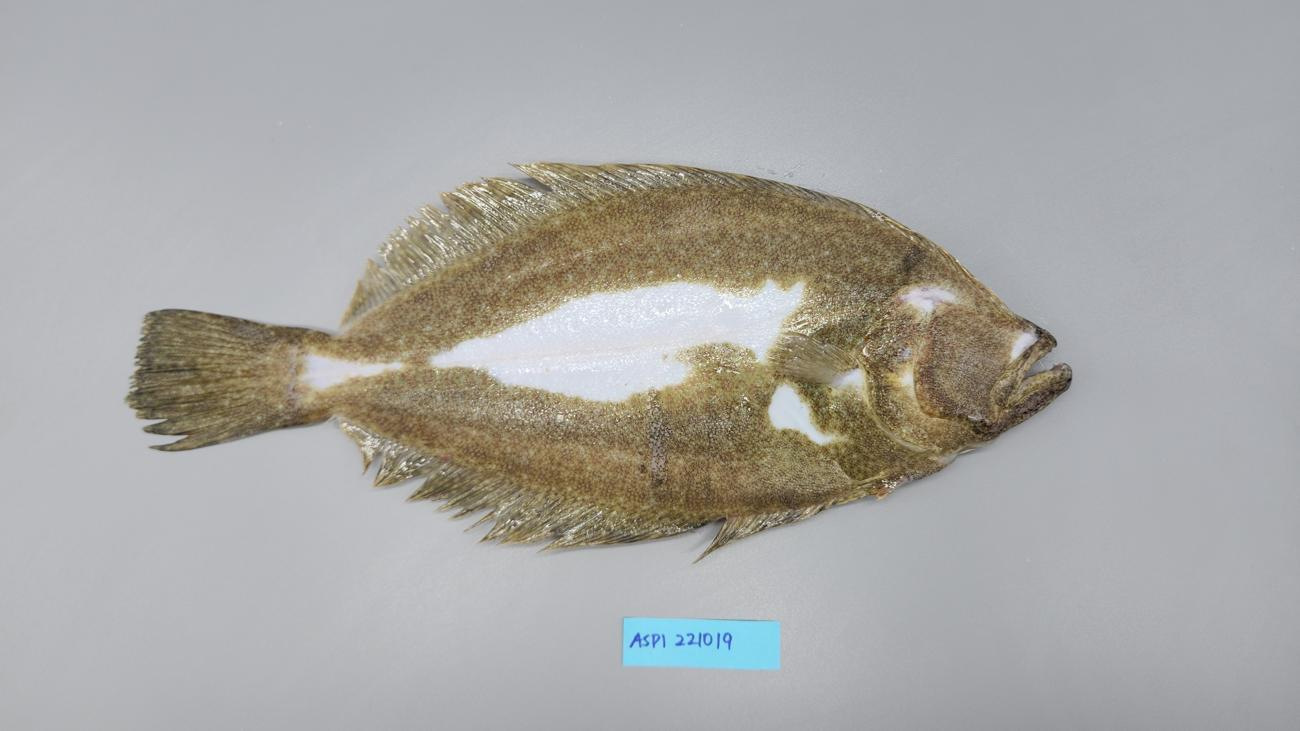SPFAH: (870, 478, 894, 496)
SPOUY: (116, 152, 1079, 575)
